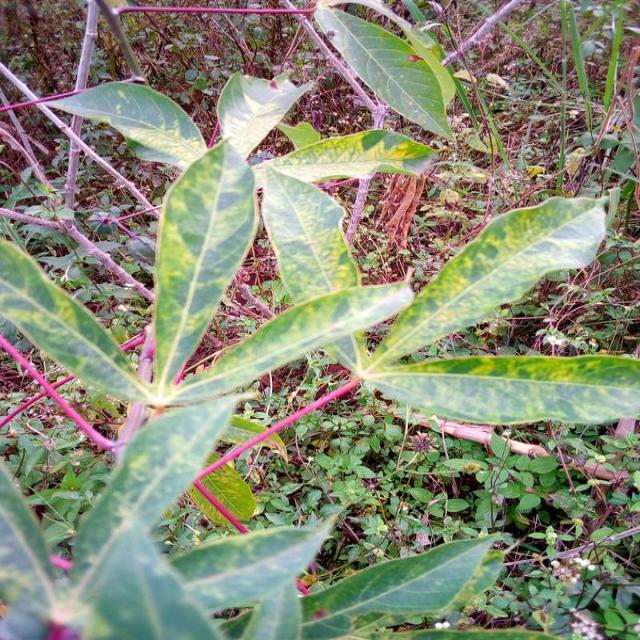cassava leaf: (0, 67, 638, 637), (367, 191, 608, 365), (152, 136, 258, 392), (0, 236, 151, 404), (259, 164, 365, 373), (362, 352, 640, 426), (313, 4, 457, 140)
